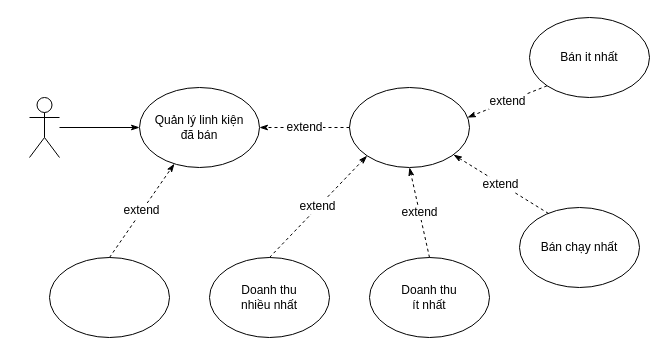
Some shapes in this 667 by 355 pixel diagram are drawn without their labels. The centre of each missing label's shape, as x and y in pixels:
"Lọc linh kiện đã bán" goes at point 409,127.
"Nhân viên" goes at point 44,127.
"Xóa linh kiện đã bán" goes at point 109,297.
